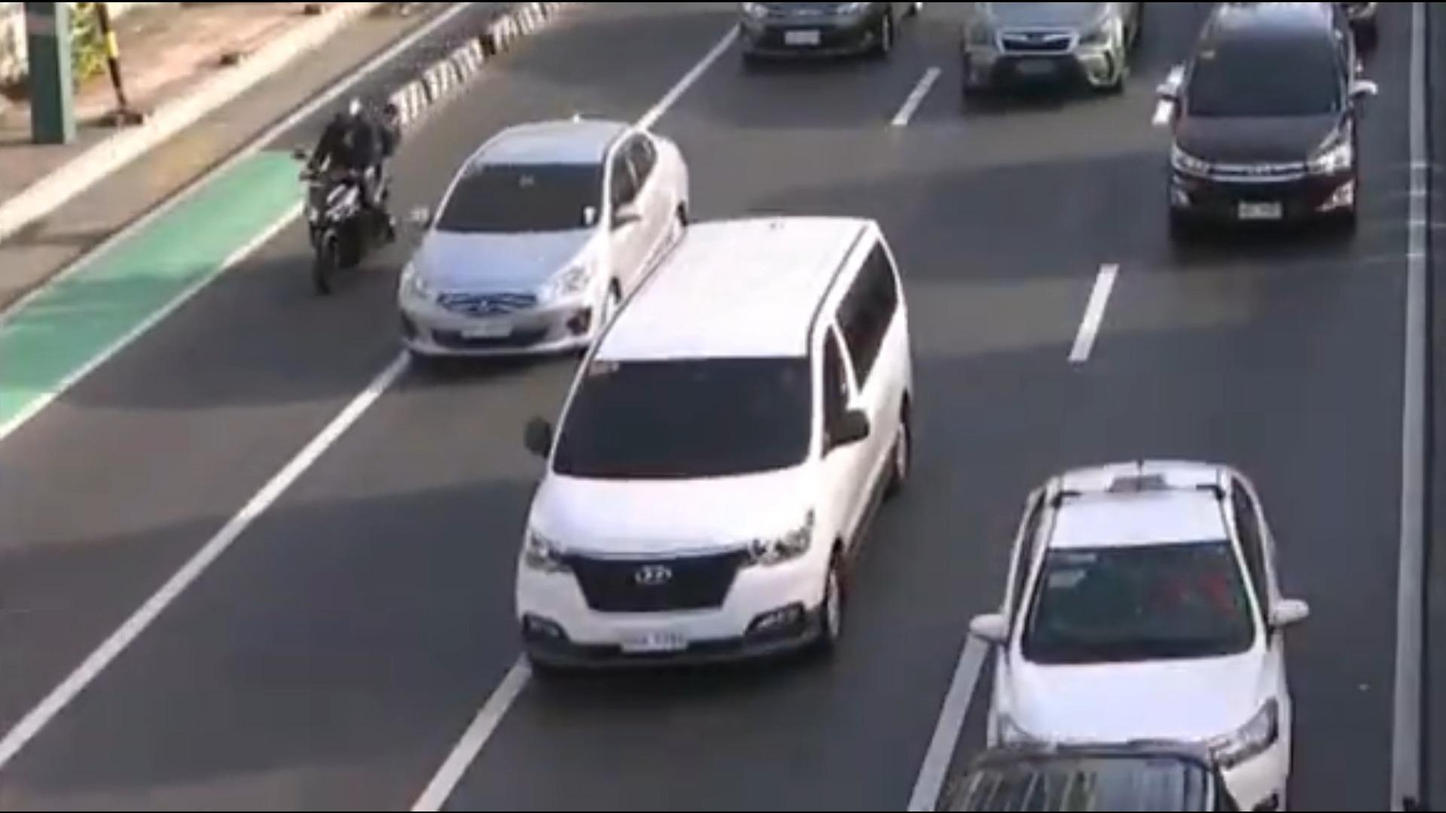Motorcycle: (292, 88, 394, 295)
SUV: (523, 213, 909, 683), (1156, 0, 1358, 248)
Sedan: (987, 467, 1303, 813), (397, 117, 685, 363)
